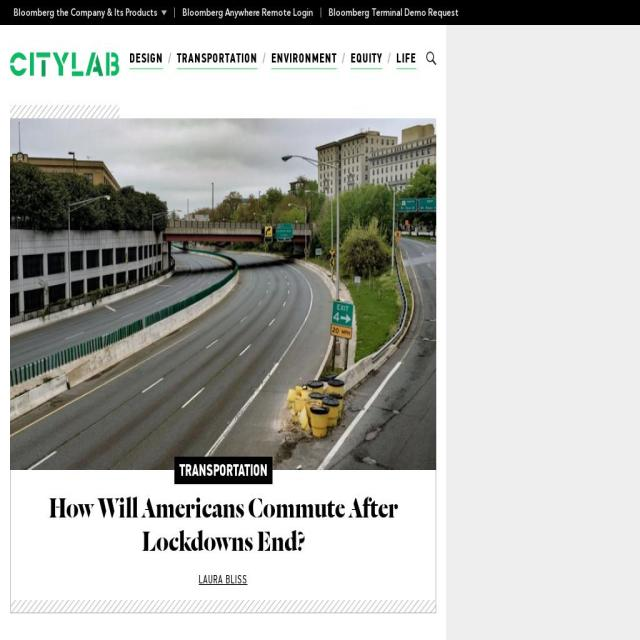button: (10, 118, 436, 471), (10, 52, 119, 78), (174, 457, 272, 485), (14, 8, 174, 18), (174, 8, 320, 18), (321, 8, 466, 18), (177, 52, 257, 69), (271, 52, 337, 69), (129, 52, 163, 69), (350, 52, 382, 69), (396, 52, 416, 69), (426, 52, 436, 65)
heading: (48, 488, 398, 560)
image: (10, 118, 436, 471), (10, 52, 119, 78), (426, 52, 436, 65)
link: (10, 52, 119, 118), (198, 572, 248, 588)
text: (183, 6, 313, 19)
